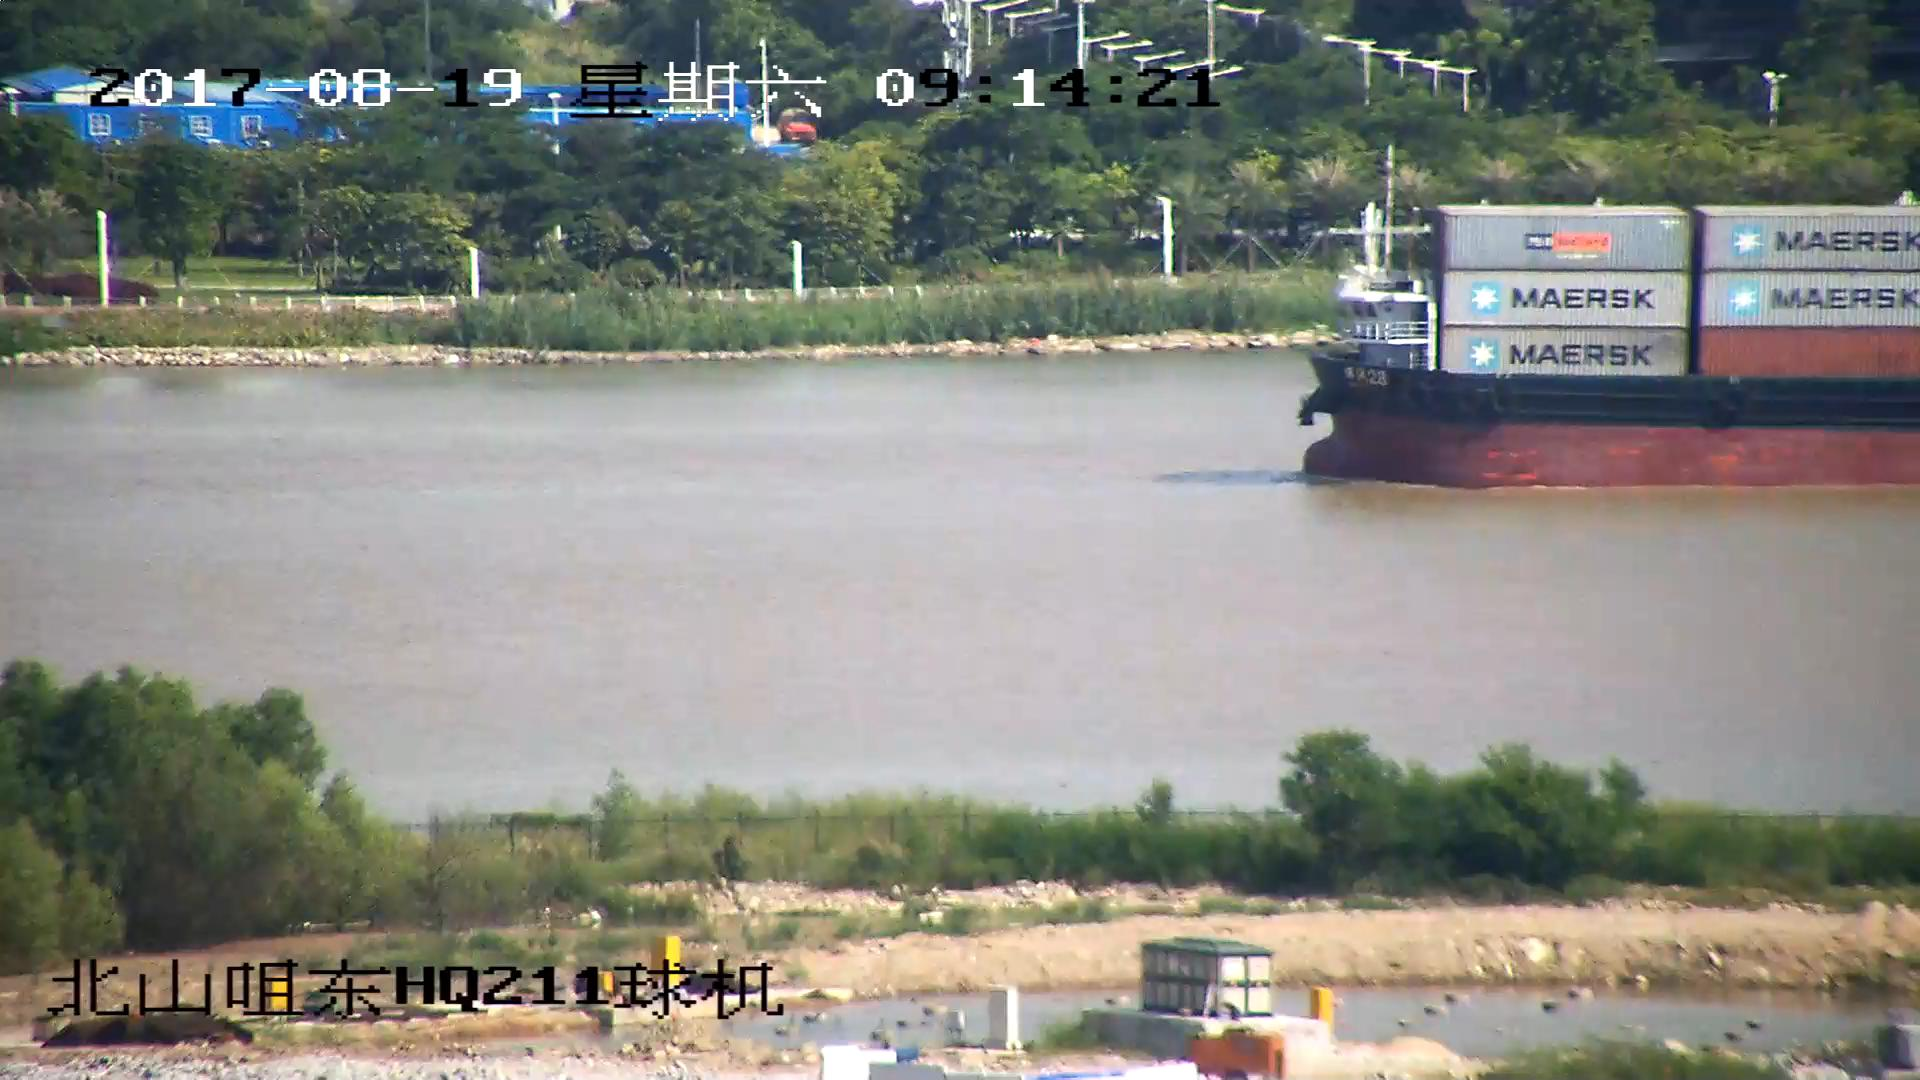container ship: (1297, 195, 1920, 491)
